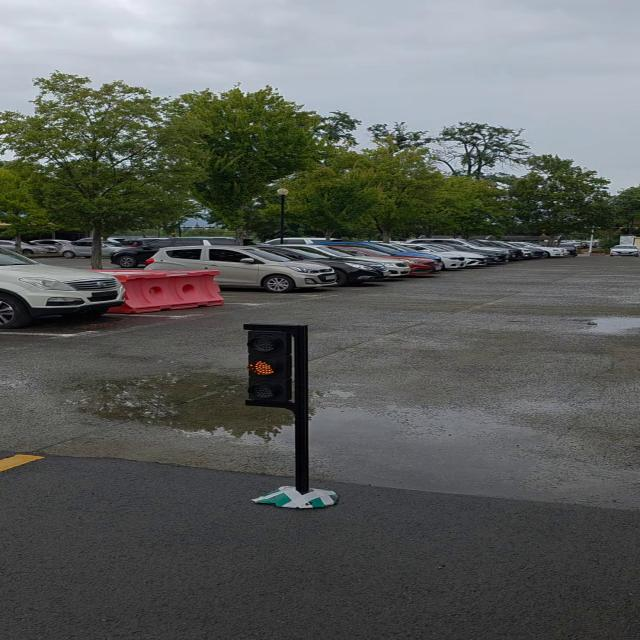yellow: (247, 328, 304, 408)
